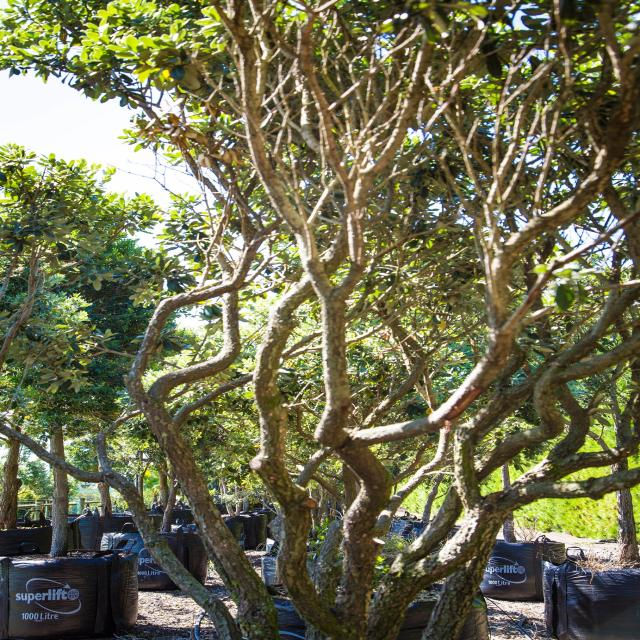Pohutukawa: (9, 0, 640, 640)
